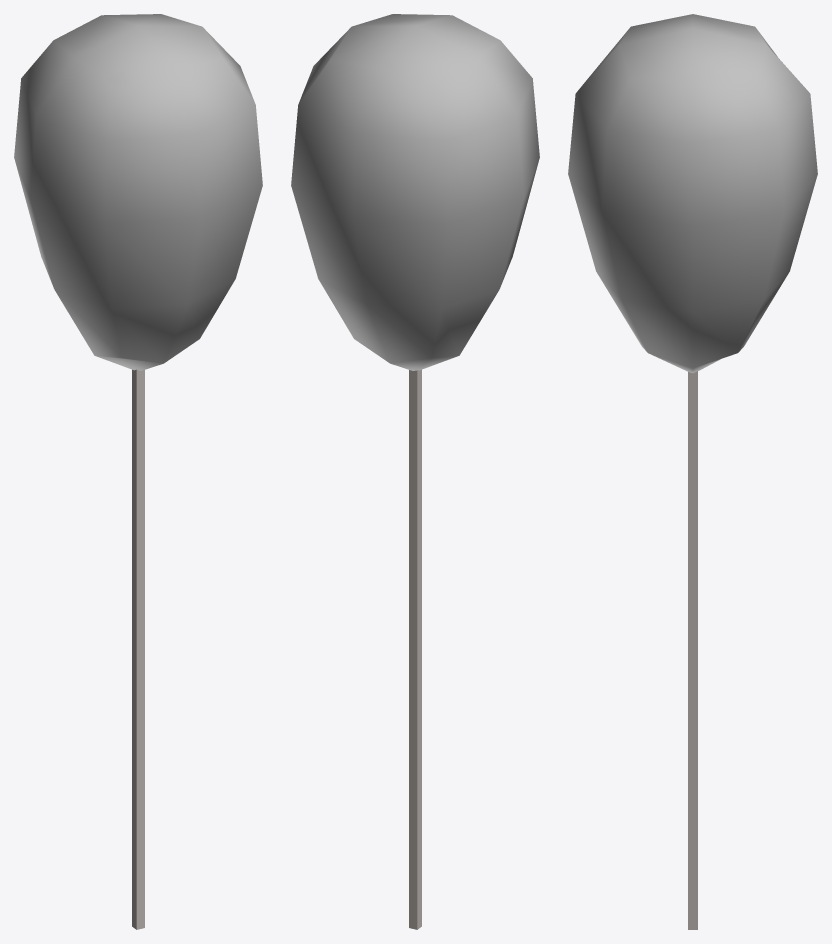
File: balloon.fbx
3 renders of one model, left to right at view 1: azimuth 30°, elevation 25°; view 2: azimuth 150°, elevation 25°; view 3: azimuth 270°, elevation 25°, orthographic.
Parts seen in each view (by area): view 1: COLOR1, COLOR2; view 2: COLOR1, COLOR2; view 3: COLOR1, COLOR2.
Part boxes in pixels (<box>): COLOR1: <box>14,14,262,370</box>; COLOR2: <box>132,369,144,929</box>; COLOR1: <box>291,14,539,370</box>; COLOR2: <box>409,369,421,929</box>; COLOR1: <box>568,14,817,373</box>; COLOR2: <box>688,371,697,929</box>.
Bounding box in the file's own units: 154 × 613 × 154.
Materials: 1 (1 with a texture image).
